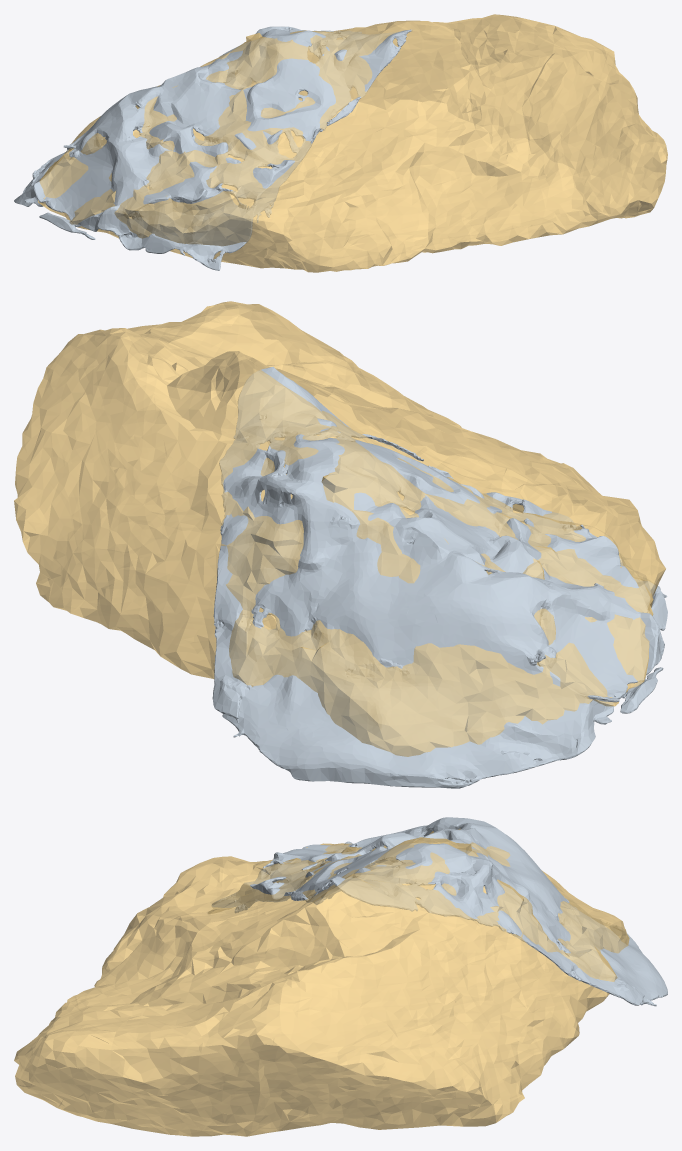
The picture shows the model from 3 angles, top to bottom: view 1: azimuth 30°, elevation 25°; view 2: azimuth 150°, elevation 25°; view 3: azimuth 270°, elevation 25°; orthographic projection. The views are drawn at different scales.
Parts seen in each view (by area): view 1: truth, imagination; view 2: truth, imagination; view 3: truth, imagination.
Part boxes in pixels (box(x1,y1,x2,y2)): truth: box(38, 14, 667, 272); imagination: box(14, 26, 412, 270); truth: box(14, 301, 665, 756); imagination: box(212, 366, 667, 788); truth: box(14, 828, 629, 1136); imagination: box(208, 817, 667, 1006).
Size of the model in its own units: 1.24 by 0.4079 by 1.14.
